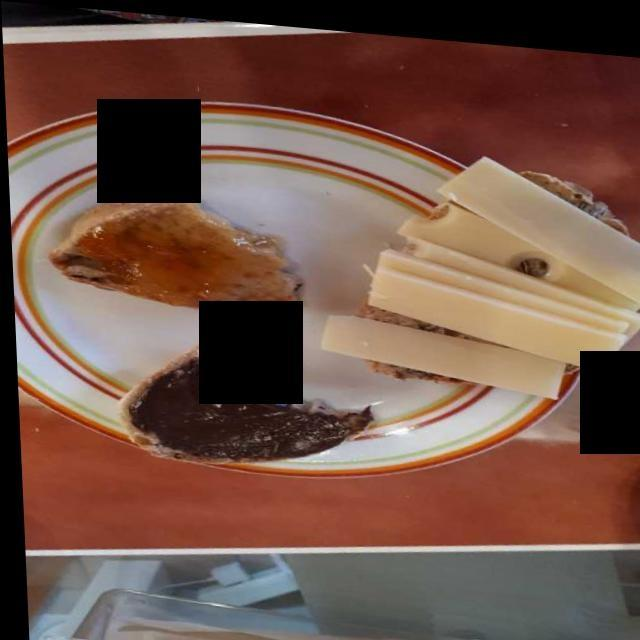bread: (9, 155, 622, 467)
cheese: (301, 155, 640, 392)
jam: (101, 204, 297, 306)
nutella: (122, 349, 361, 462)
